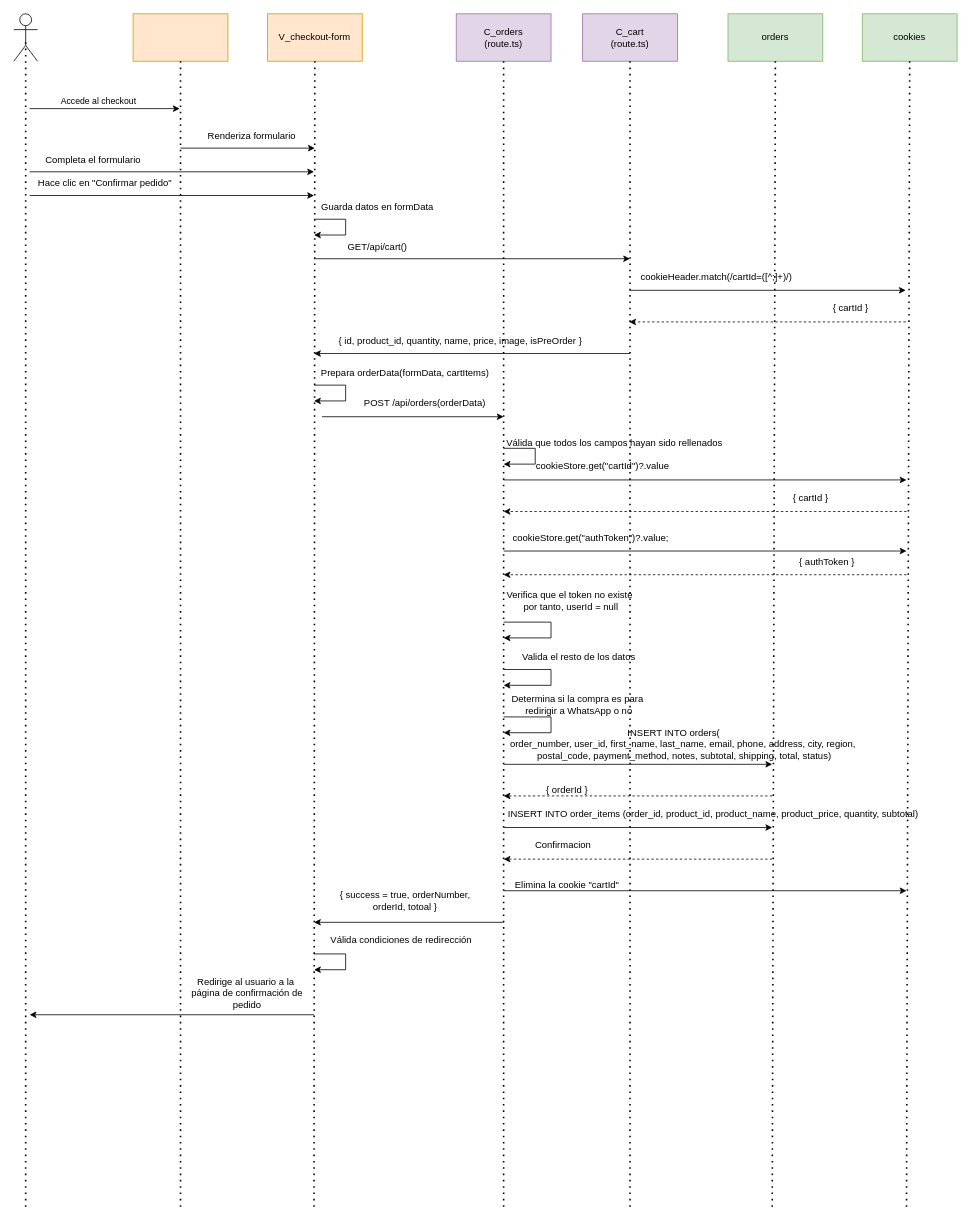
This 971x1222 diagram has some shape labels left out. Each missing label, with the box of its shape:
Actor: (13, 13, 38, 61)
V_checkout: (132, 13, 228, 61)
